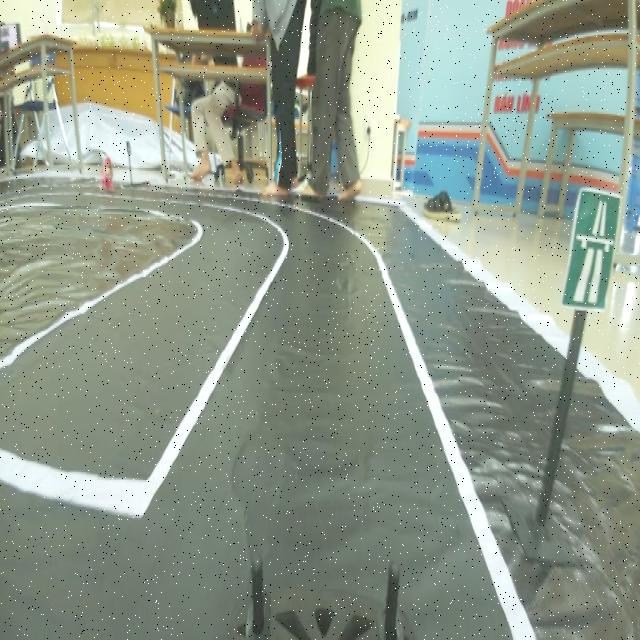highway_entry: (572, 180, 618, 314)
